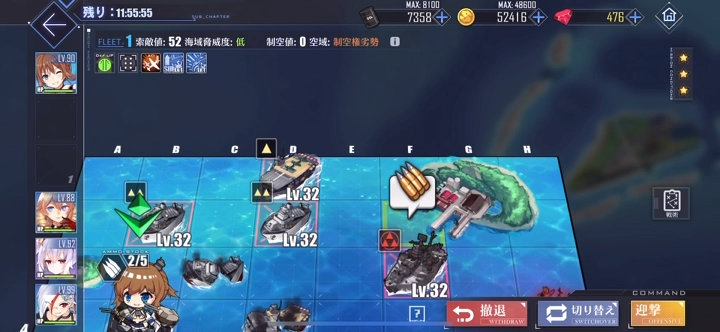lv2: (253, 189, 320, 249)
lv3: (377, 228, 446, 292)
